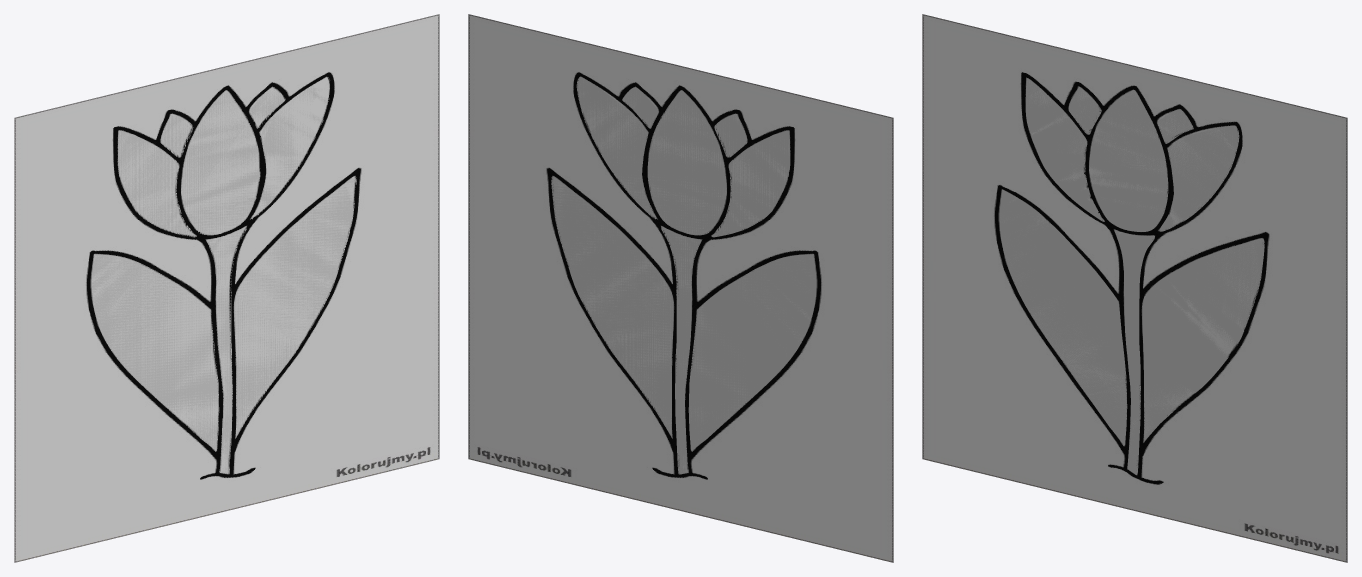
Rendered from Flower.fbx.
3 views of the same model, side by side, from view 1: azimuth 30°, elevation 25°; view 2: azimuth 150°, elevation 25°; view 3: azimuth 330°, elevation 25° (orthographic).
Visible parts, largest first — view 1: Plane_1, Leaf_1, Leaf_2, Leaf_5, Leaf_3, Neck, Leaf_7, Leaf_4, Leaf_6; view 2: Plane_1, Leaf_1, Leaf_2, Leaf_5, Leaf_7, Leaf_3, Neck, Leaf_4, Leaf_6; view 3: Plane_1, Leaf_1, Leaf_2, Leaf_5, Leaf_3, Leaf_7, Neck, Leaf_4, Leaf_6.
Boxes of the visible parts, left/top/right/bottom form: Plane_1: left=14, top=14, right=439, bottom=562; Leaf_1: left=91, top=254, right=219, bottom=450; Leaf_2: left=235, top=176, right=356, bottom=434; Leaf_5: left=181, top=90, right=260, bottom=235; Leaf_3: left=117, top=131, right=196, bottom=237; Neck: left=206, top=226, right=246, bottom=474; Leaf_7: left=251, top=77, right=329, bottom=219; Leaf_4: left=160, top=114, right=193, bottom=157; Leaf_6: left=249, top=87, right=285, bottom=128; Plane_1: left=468, top=14, right=893, bottom=562; Leaf_1: left=688, top=254, right=816, bottom=450; Leaf_2: left=551, top=176, right=673, bottom=435; Leaf_5: left=647, top=90, right=726, bottom=235; Leaf_7: left=576, top=76, right=656, bottom=219; Leaf_3: left=711, top=130, right=790, bottom=237; Neck: left=661, top=226, right=701, bottom=474; Leaf_4: left=714, top=114, right=747, bottom=157; Leaf_6: left=622, top=87, right=658, bottom=128; Plane_1: left=922, top=14, right=1347, bottom=562; Leaf_1: left=999, top=191, right=1127, bottom=445; Leaf_2: left=1142, top=238, right=1264, bottom=440; Leaf_5: left=1089, top=90, right=1168, bottom=231; Leaf_3: left=1025, top=78, right=1104, bottom=221; Leaf_7: left=1159, top=125, right=1239, bottom=231; Neck: left=1114, top=229, right=1154, bottom=475; Leaf_4: left=1068, top=87, right=1101, bottom=134; Leaf_6: left=1157, top=109, right=1193, bottom=143.
Bounding box in the file's own units: 400 × 400 × 1.13e-13.
Materials: 1 (1 with a texture image).
